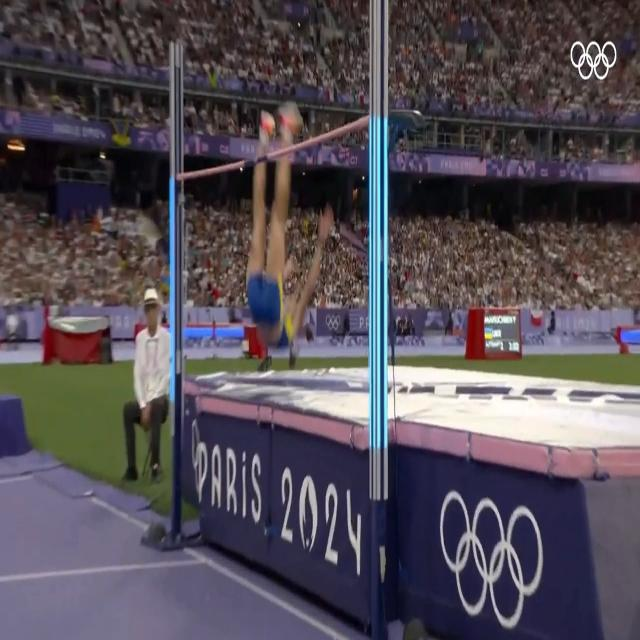land: (245, 102, 334, 355)
